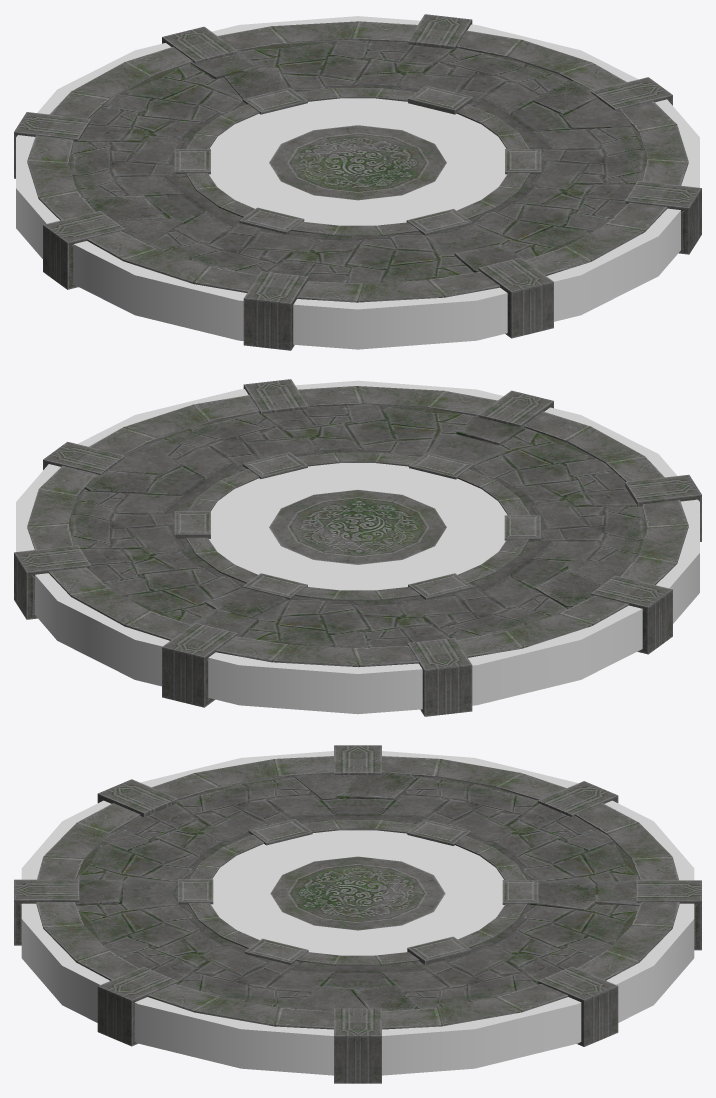
File: Scene_Build_HuanYinFang_ShiTai_1.FBX
3 renders of one model, top to bottom at view 1: azimuth 30°, elevation 25°; view 2: azimuth 150°, elevation 25°; view 3: azimuth 270°, elevation 25°, orthographic.
Visible parts, largest first — view 1: Scene_Build_HuanYinFang_ShiTai_1, Scene_Build_HuanYinFang_ShiTai_1_Xzm; view 2: Scene_Build_HuanYinFang_ShiTai_1, Scene_Build_HuanYinFang_ShiTai_1_Xzm; view 3: Scene_Build_HuanYinFang_ShiTai_1, Scene_Build_HuanYinFang_ShiTai_1_Xzm.
Part boxes in pixels (<box>): Scene_Build_HuanYinFang_ShiTai_1: <box>14,14,701,350</box>; Scene_Build_HuanYinFang_ShiTai_1_Xzm: <box>16,16,699,349</box>; Scene_Build_HuanYinFang_ShiTai_1: <box>14,379,701,716</box>; Scene_Build_HuanYinFang_ShiTai_1_Xzm: <box>16,380,699,714</box>; Scene_Build_HuanYinFang_ShiTai_1: <box>14,745,701,1083</box>; Scene_Build_HuanYinFang_ShiTai_1_Xzm: <box>21,751,694,1075</box>.
Size of the model in its own units: 2176 by 178 by 2176.
